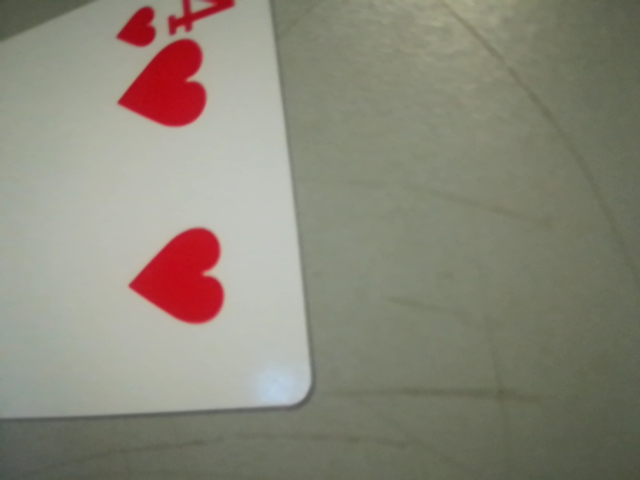hx 4: (98, 0, 238, 51)
